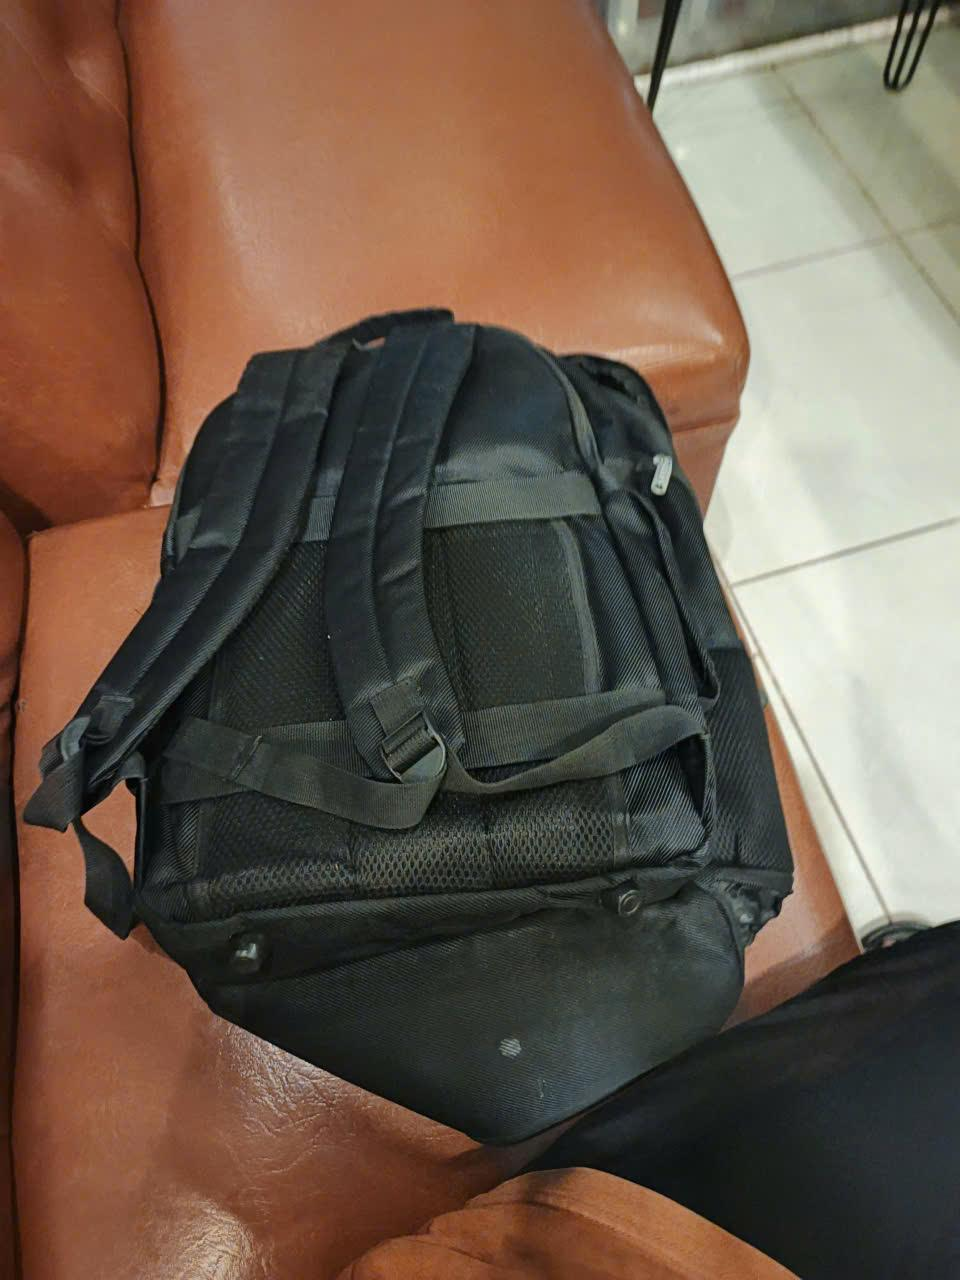Con lai: (27, 303, 792, 1131)
